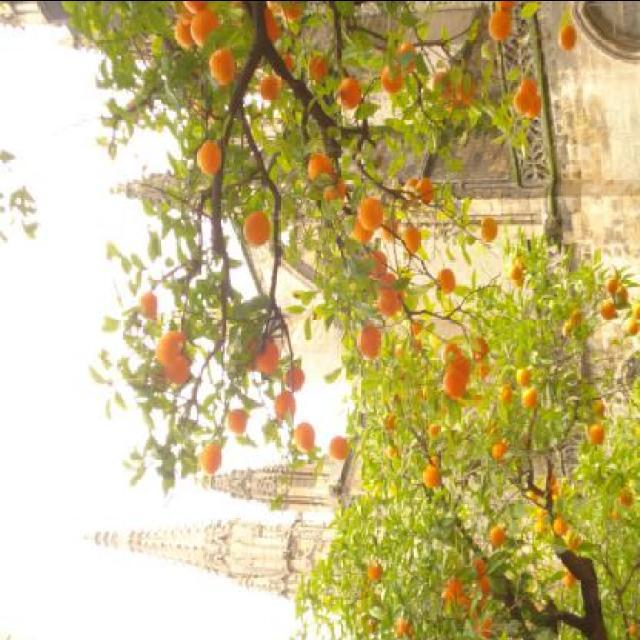Orange: (157, 332, 197, 386), (208, 41, 240, 88), (188, 12, 226, 50), (486, 0, 519, 39), (357, 193, 385, 233), (331, 78, 362, 114), (518, 78, 542, 120), (440, 372, 476, 397), (250, 340, 278, 372), (195, 139, 219, 175), (242, 207, 264, 244), (376, 280, 401, 312), (292, 419, 320, 447), (311, 157, 338, 185), (198, 445, 224, 473), (442, 342, 468, 368), (358, 318, 378, 351), (438, 266, 462, 292), (444, 578, 467, 604), (382, 66, 409, 88), (180, 0, 211, 19), (486, 446, 518, 464), (586, 420, 608, 446), (348, 209, 368, 237), (606, 271, 630, 294), (222, 406, 245, 429), (458, 598, 480, 622), (522, 382, 544, 406), (276, 393, 298, 416), (323, 438, 345, 460), (173, 22, 190, 50), (286, 368, 308, 388), (483, 529, 509, 543), (144, 289, 154, 325), (598, 306, 620, 322), (555, 22, 571, 44), (498, 380, 516, 398), (512, 367, 528, 385), (480, 222, 498, 235), (398, 44, 414, 58), (472, 586, 492, 596), (564, 577, 578, 591), (554, 520, 564, 538), (498, 2, 518, 8), (474, 568, 482, 572)
